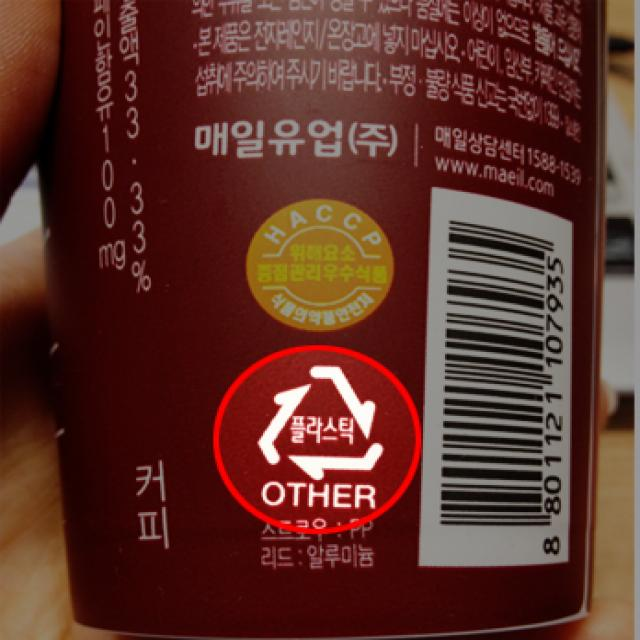Plastic: (253, 358, 385, 482)
